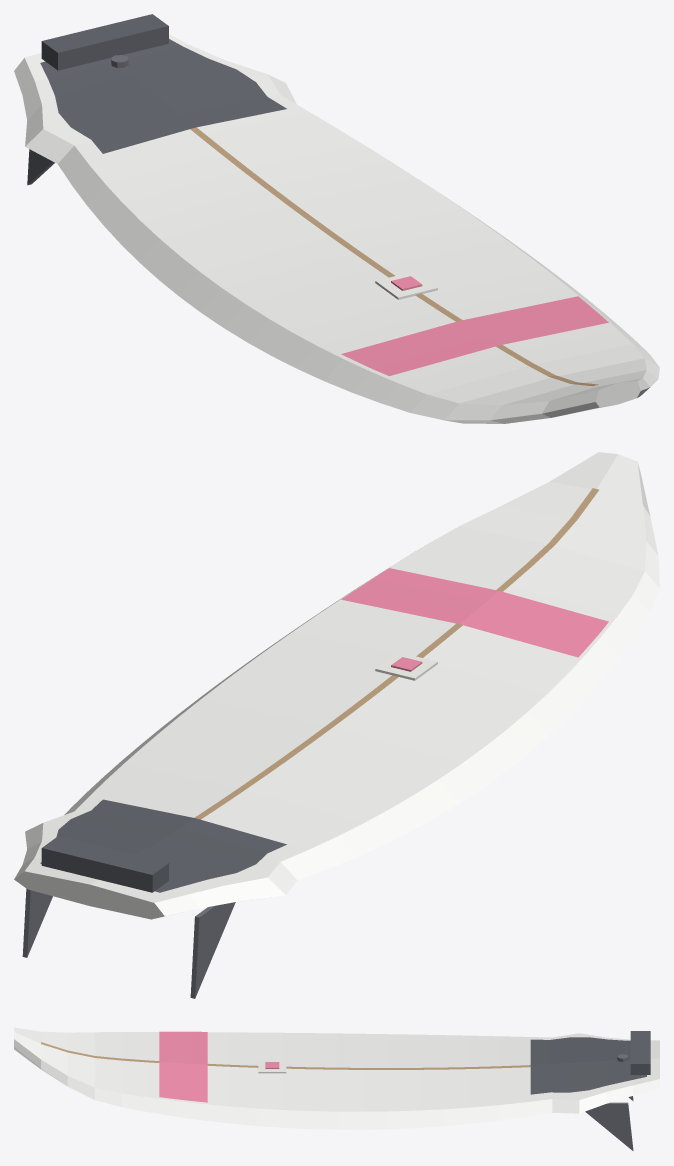
File: BoardFish.fbx
The picture shows the model from 3 angles, top to bottom: view 1: azimuth 30°, elevation 25°; view 2: azimuth 150°, elevation 25°; view 3: azimuth 270°, elevation 25°; orthographic projection. The views are drawn at different scales.
Parts seen in each view (by area): view 1: BoardFish; view 2: BoardFish; view 3: BoardFish.
Part boxes in pixels (<box>): BoardFish: <box>14,14,659,423</box>; BoardFish: <box>14,452,659,998</box>; BoardFish: <box>14,1027,659,1150</box>.
Bounding box in the file's own units: 0.54 × 0.2589 × 1.62.
